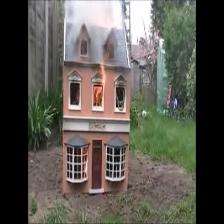fire: (92, 67, 107, 106)
